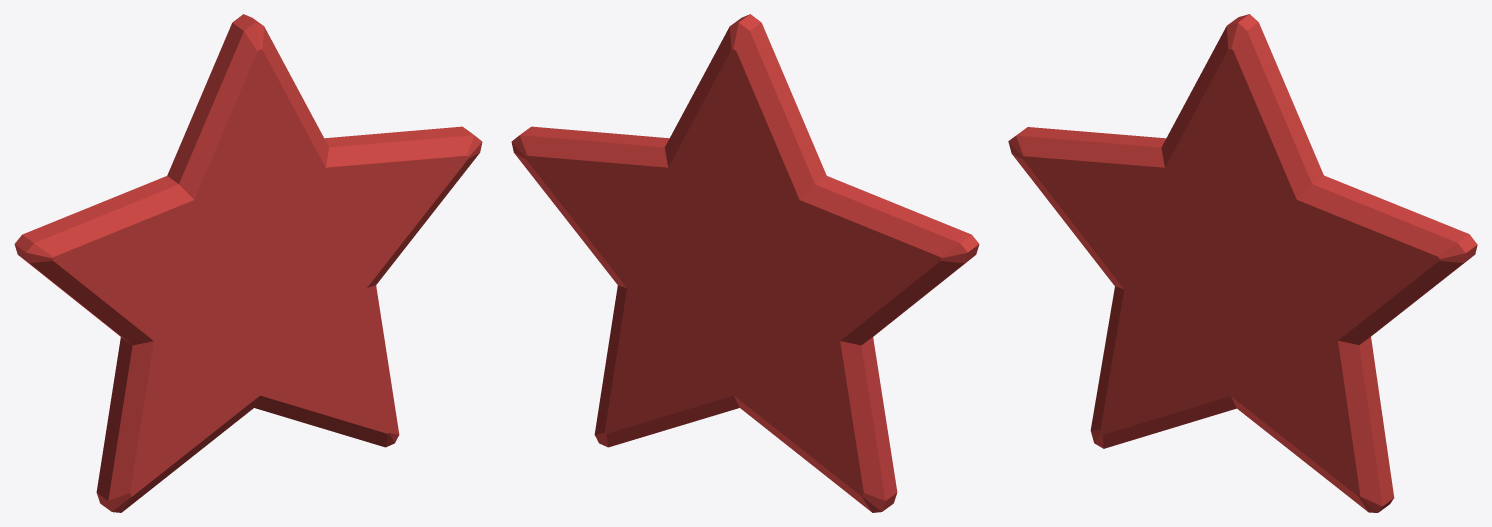
File: Star_3.fbx
3 views of the same model, side by side, from view 1: azimuth 30°, elevation 25°; view 2: azimuth 150°, elevation 25°; view 3: azimuth 330°, elevation 25° (orthographic).
Parts seen in each view (by area): view 1: Star_3; view 2: Star_3; view 3: Star_3.
Boxes of the visible parts, x1,y1,x2,y2 form: Star_3: (14, 14, 482, 512); Star_3: (511, 14, 979, 512); Star_3: (1008, 14, 1477, 512).
Size of the model in its own units: 0.2166 by 0.2076 by 0.0195.
